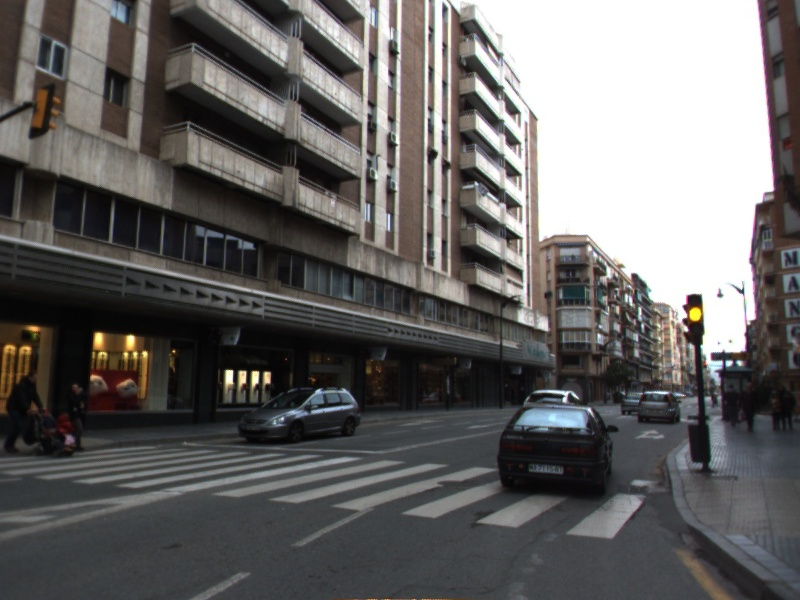STRAIGHT_RIGHT: (632, 427, 667, 442)
